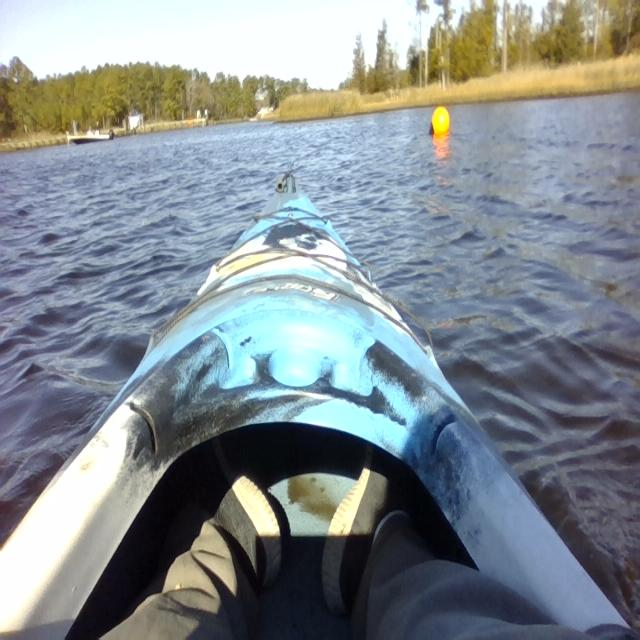Buoy: (427, 103, 451, 139)
